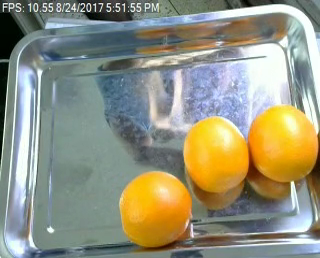Orange: (119, 171, 193, 247), (248, 105, 319, 183), (183, 115, 249, 192)
